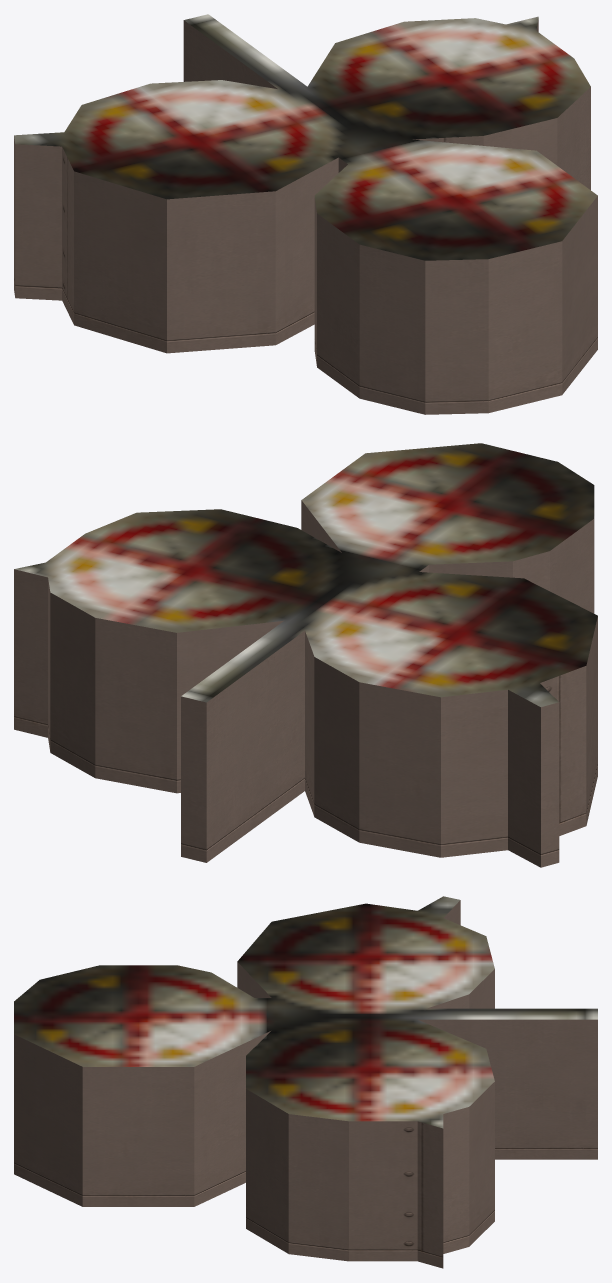
Rendered from fuel_tank_medium_64.glb.
3 views of the same model, one above another, from view 1: azimuth 30°, elevation 25°; view 2: azimuth 150°, elevation 25°; view 3: azimuth 270°, elevation 25° (orthographic). The views are drawn at different scales.
Visible parts, largest first — view 1: buildings/saxarba/fuel_tanks/fuel_tank_medium_64; view 2: buildings/saxarba/fuel_tanks/fuel_tank_medium_64; view 3: buildings/saxarba/fuel_tanks/fuel_tank_medium_64.
Part boxes in pixels (x1=…): buildings/saxarba/fuel_tanks/fuel_tank_medium_64: x1=14, y1=14, x2=597, y2=414; buildings/saxarba/fuel_tanks/fuel_tank_medium_64: x1=14, y1=443, x2=597, y2=867; buildings/saxarba/fuel_tanks/fuel_tank_medium_64: x1=14, y1=896, x2=597, y2=1268.
Size of the model in its own units: 64 by 18 by 68.
